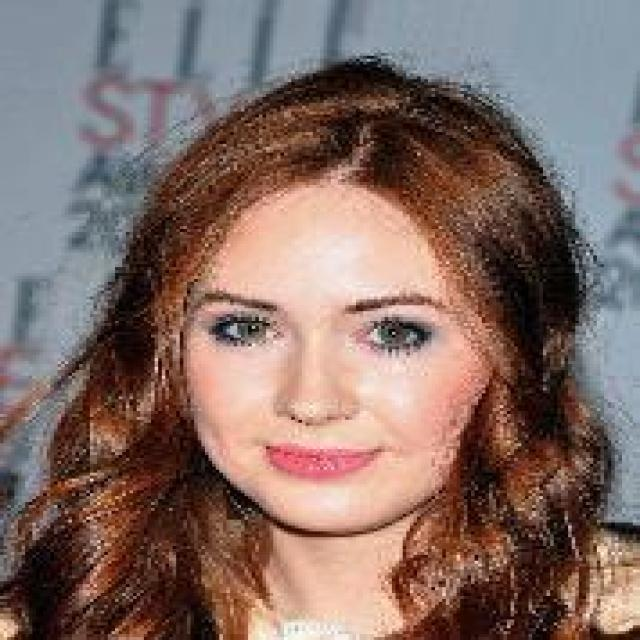bareface: (158, 182, 525, 530)
